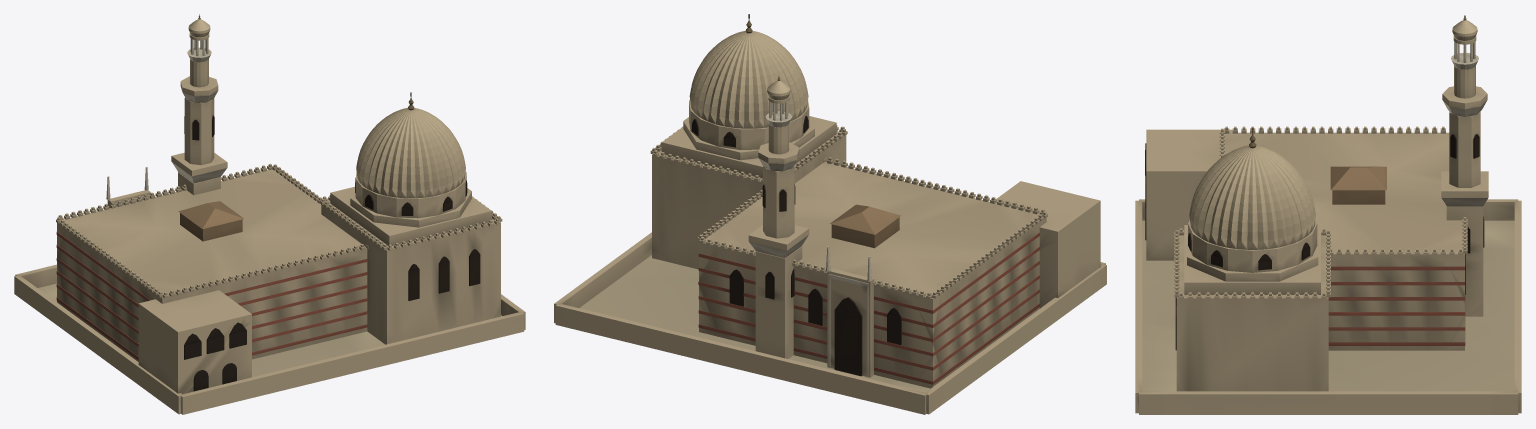
Rendered from qaitbay.glb.
The picture shows the model from 3 angles, left to right: view 1: azimuth 30°, elevation 25°; view 2: azimuth 150°, elevation 25°; view 3: azimuth 270°, elevation 25°; orthographic projection. The views are drawn at different scales.
Visible parts, largest first — view 1: p1_mosque, p2_dome and minaret, p0_ground; view 2: p1_mosque, p2_dome and minaret, p0_ground; view 3: p1_mosque, p2_dome and minaret, p0_ground.
Part boxes in pixels (x1,y1,x2,y2): p1_mosque: (14, 163, 525, 414); p2_dome and minaret: (106, 14, 502, 344); p0_ground: (38, 283, 502, 377); p1_mosque: (554, 157, 1106, 414); p2_dome and minaret: (650, 14, 873, 377); p0_ground: (579, 255, 930, 392); p1_mosque: (1135, 126, 1521, 414); p2_dome and minaret: (1174, 15, 1488, 391); p0_ground: (1142, 220, 1514, 391).
Size of the model in its own units: 60.9 by 43.21 by 50.9.
